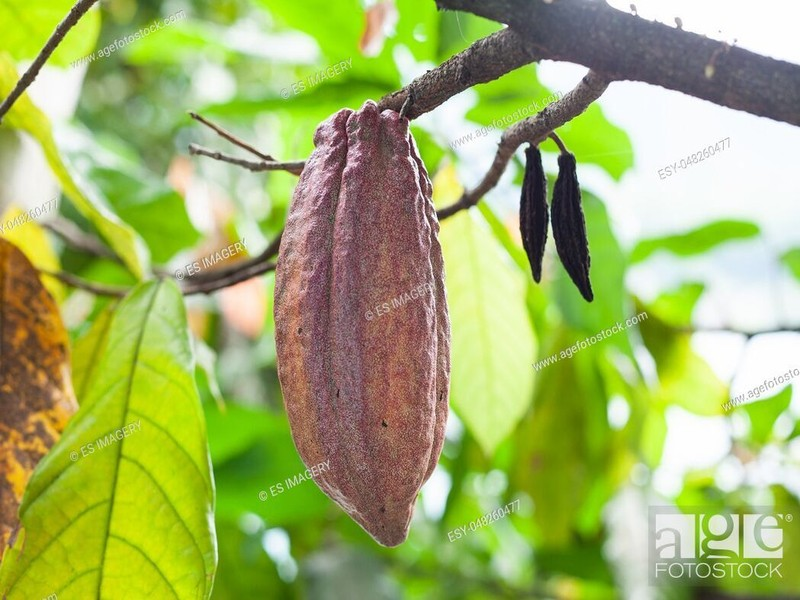Cacaopod: (272, 100, 448, 549)
